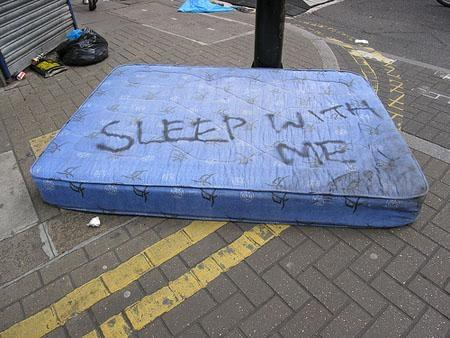Bed-Mattress: (31, 65, 429, 228)
